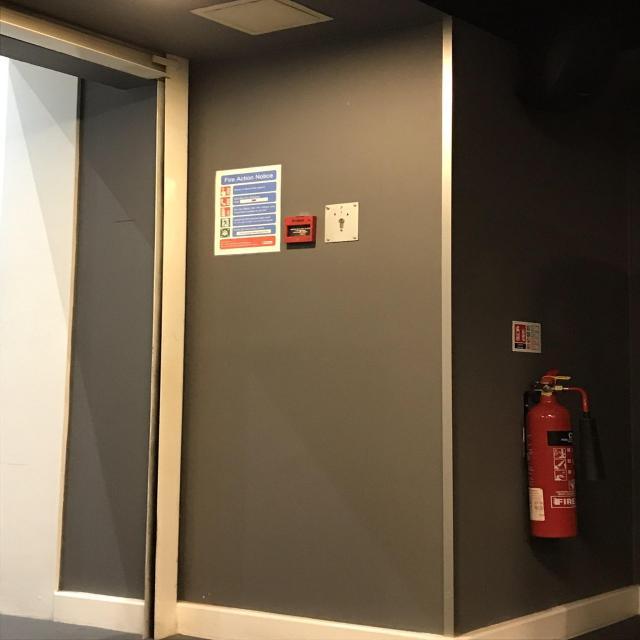fire_extinguisher: (513, 366, 611, 542)
